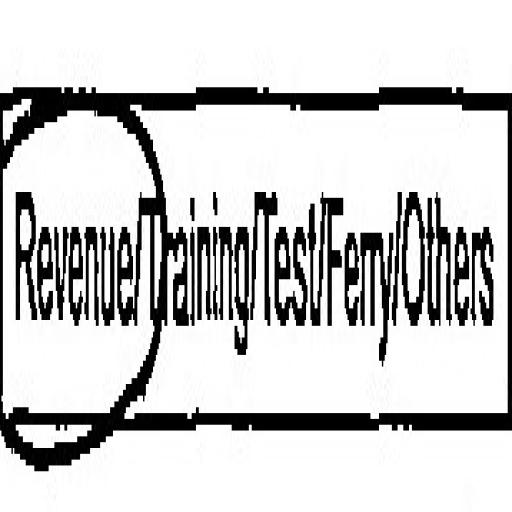check: (0, 16, 143, 512)
